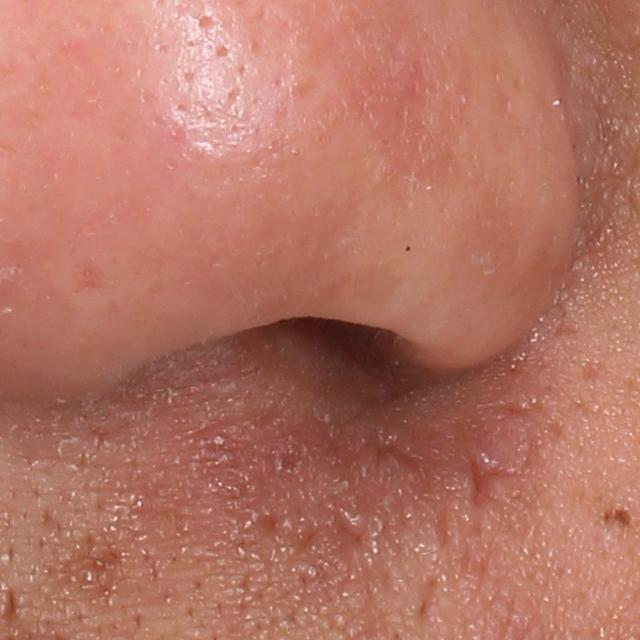atrophic_scar: (361, 421, 489, 499), (467, 449, 526, 510), (331, 505, 372, 564), (416, 568, 447, 629)
nevus: (603, 505, 633, 529)
